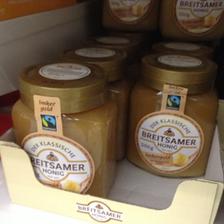honey: (11, 62, 119, 202), (129, 50, 220, 181)
